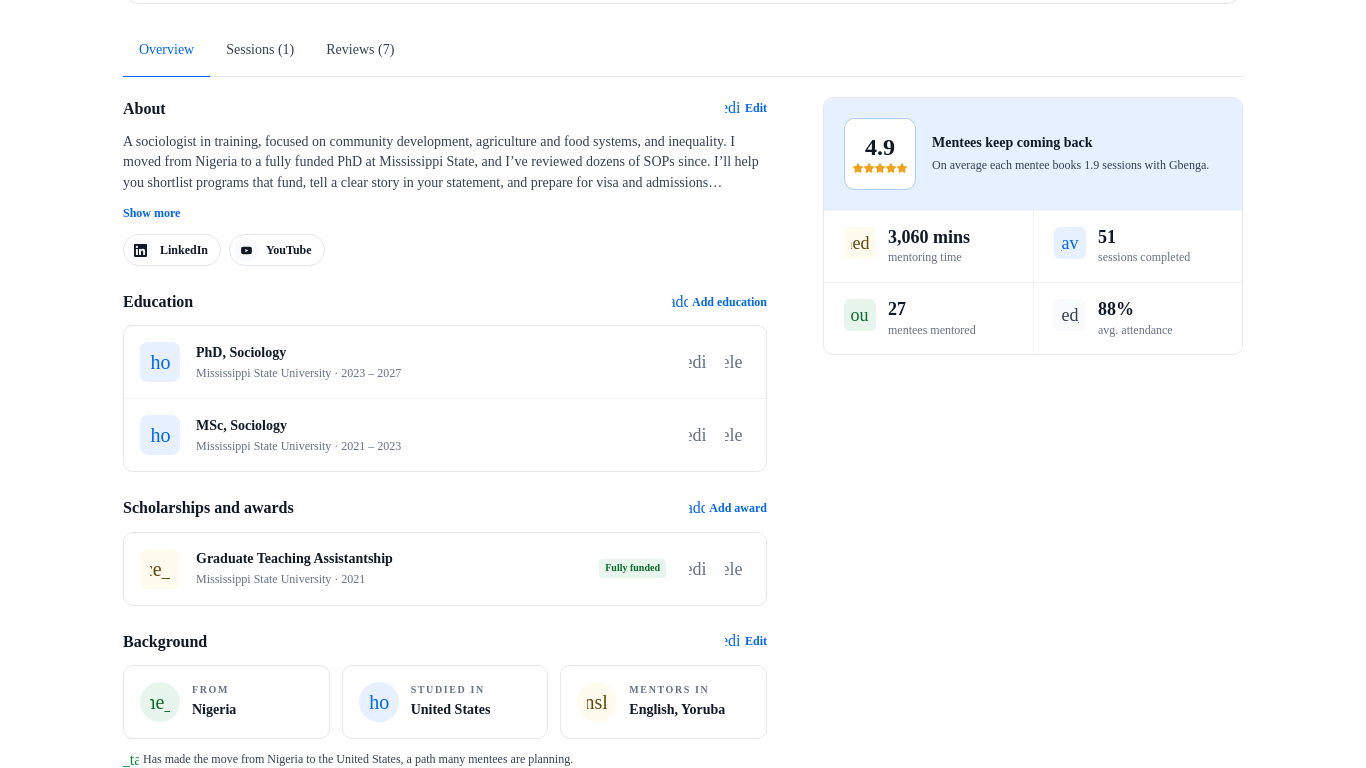
Test case: MentorProfileScreen — the owner’s background › "Edit" opens it prefilled; unchanged, Save closes without sending
This screenshot has width=1366, height=768.
(page scrolled)
Step 1. Click the button with aria-label "Edit background" → coordinates (746, 641), box top-left (725, 633), bottom-right (767, 649)
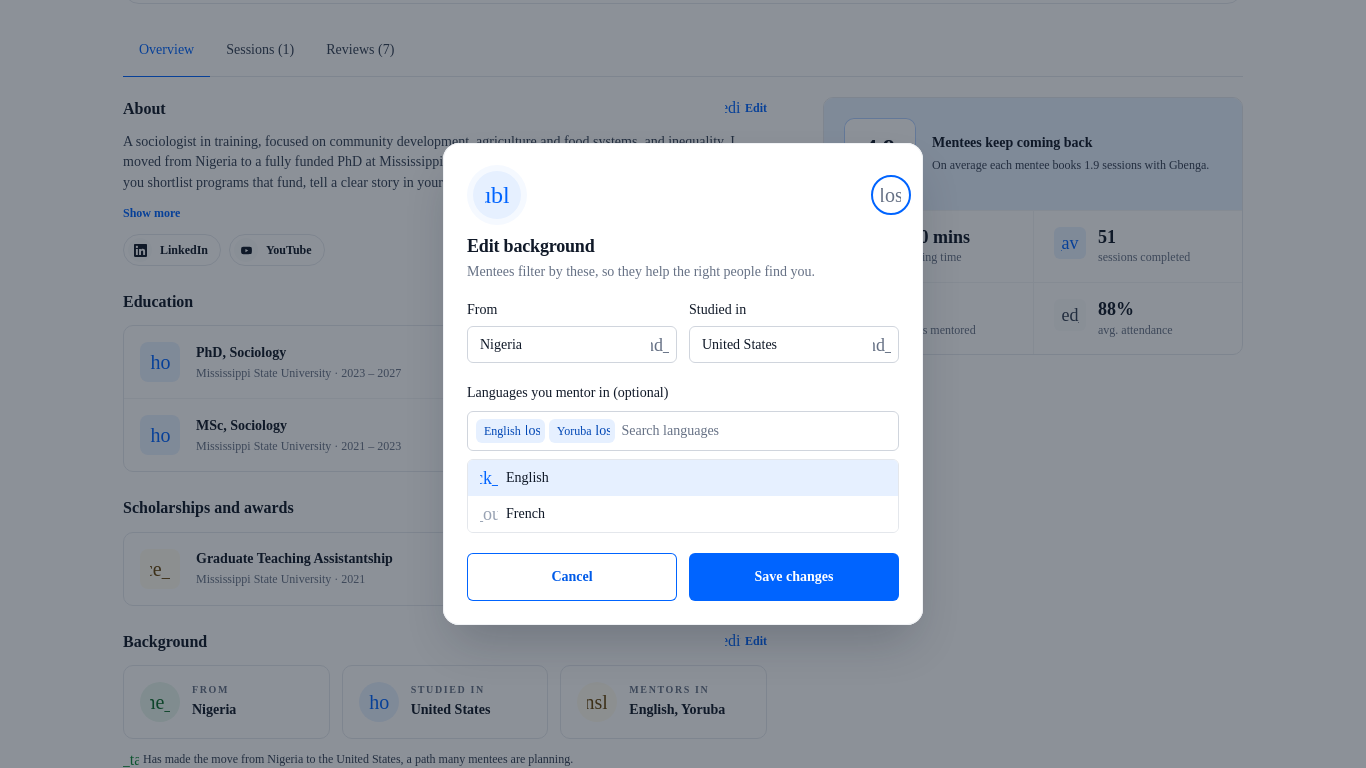
expect the dropdown labelled "From" holds "Nigeria": met, box top-left (467, 326), bottom-right (677, 363)
expect the dropdown labelled "Studied in" holds "United States": met, box top-left (689, 326), bottom-right (899, 363)
Step 2. Click the button "Save changes" → coordinates (794, 578), box top-left (689, 554), bottom-right (899, 602)
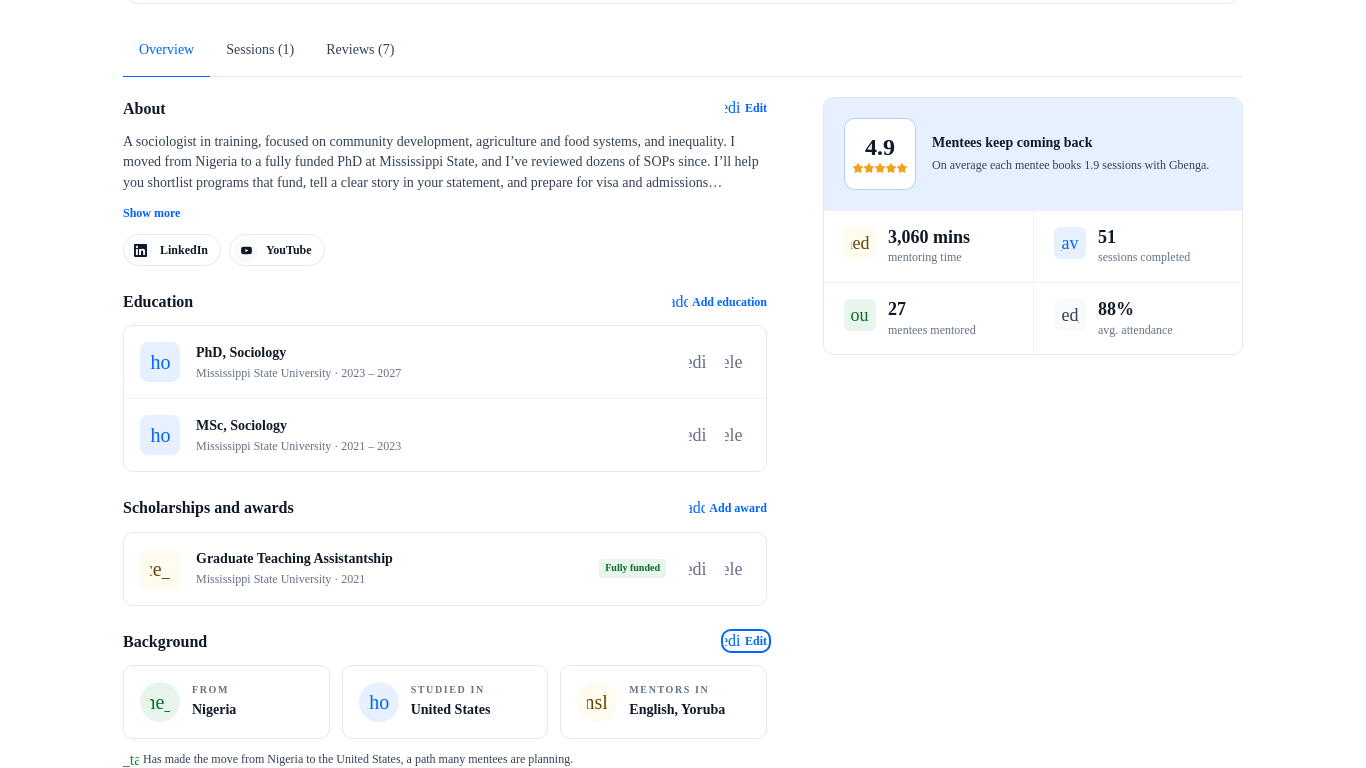
expect the dialog is gone: met
